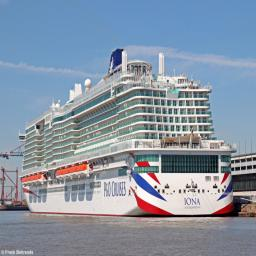cruises: (18, 46, 238, 222)
